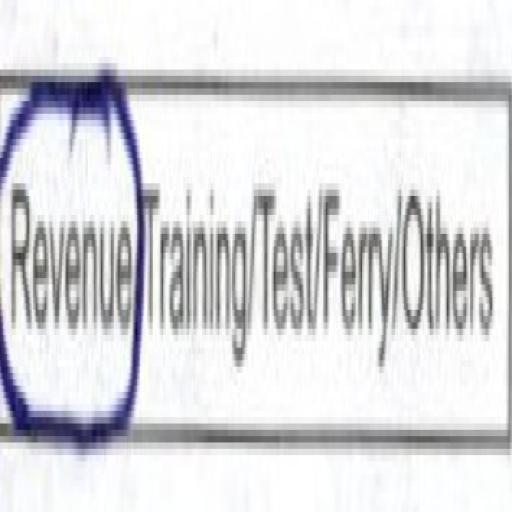check: (0, 0, 144, 473)
